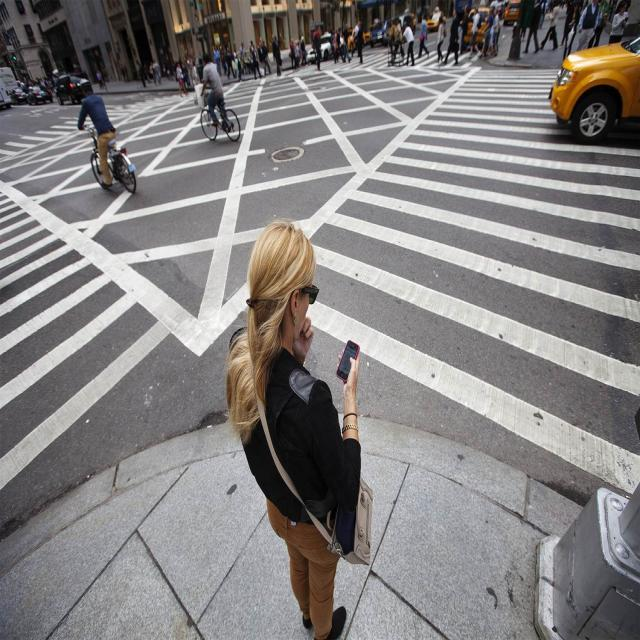body: (222, 216, 376, 639), (76, 80, 118, 189), (198, 51, 234, 132), (560, 1, 582, 68), (538, 0, 590, 28), (538, 0, 561, 51), (587, 0, 611, 48), (223, 48, 260, 78), (521, 0, 541, 55), (441, 8, 460, 65), (608, 2, 630, 45), (16, 74, 59, 95), (467, 5, 482, 60), (478, 8, 493, 59), (456, 2, 470, 56), (578, 0, 600, 34), (390, 16, 406, 61), (400, 20, 415, 68), (417, 12, 430, 59), (488, 8, 500, 58), (519, 0, 534, 40), (186, 54, 200, 96), (350, 19, 363, 58), (175, 62, 189, 98), (312, 29, 324, 71), (435, 15, 445, 64), (353, 22, 364, 64), (224, 44, 236, 80), (312, 25, 322, 67), (342, 21, 352, 63), (273, 35, 283, 76), (261, 40, 272, 76), (257, 41, 267, 77), (328, 28, 338, 64), (213, 44, 223, 78), (218, 43, 228, 77), (180, 61, 192, 89), (289, 37, 298, 71), (152, 58, 163, 85), (336, 26, 344, 62), (163, 56, 174, 82), (486, 4, 496, 32), (234, 50, 242, 84), (239, 42, 247, 76), (300, 35, 308, 69), (389, 18, 396, 56), (148, 62, 158, 88), (134, 63, 143, 91), (333, 29, 340, 64), (138, 63, 147, 89), (243, 50, 252, 76), (514, 2, 520, 40), (198, 51, 205, 83), (95, 68, 105, 90), (142, 62, 152, 84), (295, 39, 301, 68), (123, 60, 130, 83), (294, 39, 299, 69), (119, 62, 126, 82), (100, 70, 107, 90), (249, 40, 255, 54)
